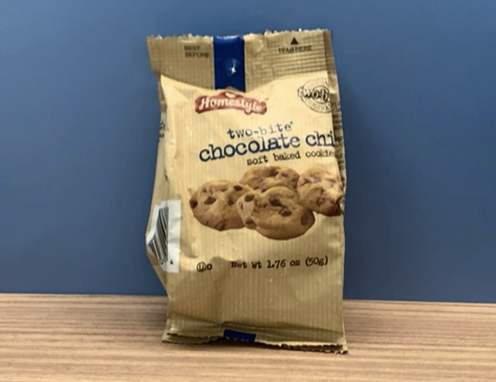cookies_50g: (170, 79, 343, 283)
